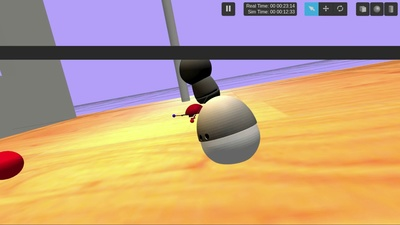mira_robot: (197, 96, 260, 164)
